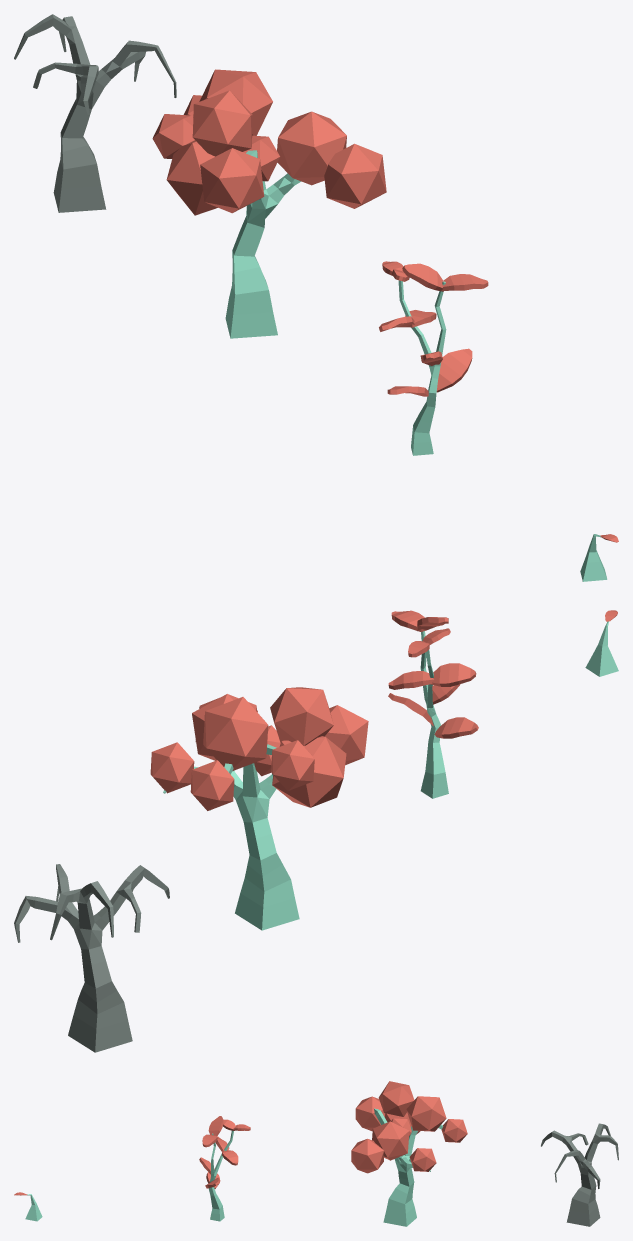
Rendered from treelife2.fbx.
3 views of the same model, one above another, from view 1: azimuth 30°, elevation 25°; view 2: azimuth 150°, elevation 25°; view 3: azimuth 270°, elevation 25° (orthographic). The views are drawn at different scales.
Parts seen in each view (by area): view 1: Cube.001, Cube.004, Cube, Cube.002; view 2: Cube.001, Cube.004, Cube, Cube.002; view 3: Cube.001, Cube.004, Cube, Cube.002.
Boxes of the visible parts, x1,y1,x2,y2 form: Cube.001: [152, 69, 386, 338]; Cube.004: [14, 14, 176, 212]; Cube: [379, 261, 488, 455]; Cube.002: [580, 534, 618, 581]; Cube.001: [150, 687, 368, 930]; Cube.004: [14, 864, 169, 1052]; Cube: [388, 610, 478, 798]; Cube.002: [585, 610, 618, 676]; Cube.001: [351, 1081, 467, 1226]; Cube.004: [541, 1123, 618, 1226]; Cube: [199, 1116, 250, 1221]; Cube.002: [14, 1192, 42, 1221].
Bounding box in the file's own units: 122 × 155 × 660.
